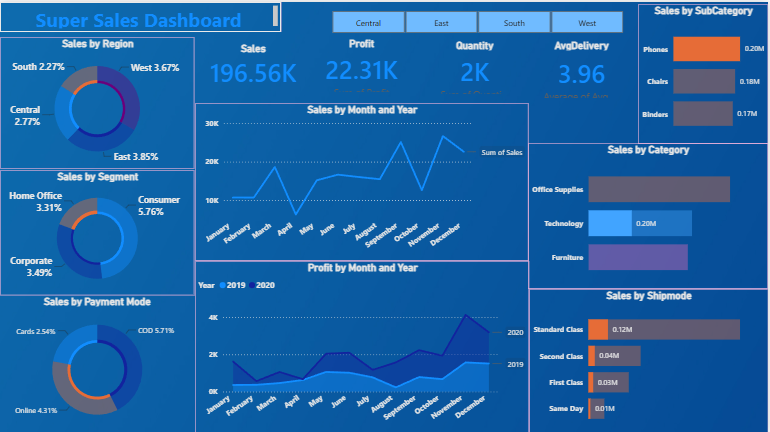

This screenshot's page, from the dashboard's own definition file:
{"tool":"powerbi","page":{"name":"Page 1","canvas":[1280,720],"ordinal":0},"visuals":[{"type":"clusteredBarChart","title":"Sales by Category","fields":{"Category":["SuperStore Sales DataSet(Sheet1).Category"],"Y":["Sum(SuperStore Sales DataSet(Sheet1).Sales)"]},"box":[880,235.7,400,242.9],"z":0},{"type":"clusteredBarChart","title":"Sales by SubCategory","fields":{"Category":["SuperStore Sales DataSet(Sheet1).Sub-Category"],"Y":["Sum(SuperStore Sales DataSet(Sheet1).Sales)"]},"box":[1062.9,2.9,217.1,232.9],"z":1000},{"type":"clusteredBarChart","title":"Sales by Shipmode","fields":{"Category":["SuperStore Sales DataSet(Sheet1).Ship Mode"],"Y":["Sum(SuperStore Sales DataSet(Sheet1).Sales)"]},"box":[881.4,478.6,398.6,241.4],"z":2000},{"type":"lineChart","title":" Sales by Month and Year","fields":{"Category":["SuperStore Sales DataSet(Sheet1).Order Date.Variation.Date Hierarchy.Month","SuperStore Sales DataSet(Sheet1).Order Date.Variation.Date Hierarchy.Year"],"Y":["Sum(SuperStore Sales DataSet(Sheet1).Sales)"]},"box":[324.3,168.6,555.7,262.9],"z":3000},{"type":"stackedAreaChart","title":"Profit by Month and Year","fields":{"Category":["SuperStore Sales DataSet(Sheet1).Order Date.Variation.Date Hierarchy.Month"],"Series":["SuperStore Sales DataSet(Sheet1).Order Date.Variation.Date Hierarchy.Year"],"Y":["Sum(SuperStore Sales DataSet(Sheet1).Profit)"]},"box":[324.3,431.4,557.1,287.1],"z":4000},{"type":"donutChart","title":" Sales by Segment","fields":{"Category":["SuperStore Sales DataSet(Sheet1).Segment"],"Y":["Sum(SuperStore Sales DataSet(Sheet1).Sales)"]},"box":[0,280,324.3,208.6],"z":4002},{"type":"donutChart","title":" Sales by Payment Mode","fields":{"Category":["SuperStore Sales DataSet(Sheet1).Payment Mode"],"Y":["Sum(SuperStore Sales DataSet(Sheet1).Sales)"]},"box":[0,488.6,324.3,230],"z":4003},{"type":"slicer","fields":{"Values":["SuperStore Sales DataSet(Sheet1).Region"]},"box":[528.6,8.6,534.3,50],"z":4004},{"type":"cardVisual","title":"Sales","fields":{"Data":["Sum(SuperStore Sales DataSet(Sheet1).Sales)"]},"box":[314.3,67.1,214.3,100],"z":4006},{"type":"cardVisual","title":"Profit","fields":{"Data":["Sum(SuperStore Sales DataSet(Sheet1).Profit)"]},"box":[505.7,58.6,195.7,108.6],"z":4008},{"type":"cardVisual","title":"AvgDelivery","fields":{"Data":["Avg(SuperStore Sales DataSet(Sheet1).AvgDelivery)"]},"box":[877.1,61.4,185.7,115.7],"z":4009},{"type":"cardVisual","title":"Quantity","fields":{"Data":["Sum(SuperStore Sales DataSet(Sheet1).Quantity)"]},"box":[704.3,61.4,172.9,108.6],"z":4010},{"type":"donutChart","title":" Sales by Region","fields":{"Category":["SuperStore Sales DataSet(Sheet1).Region"],"Y":["Sum(SuperStore Sales DataSet(Sheet1).Sales)"]},"box":[0,58.6,324.3,220],"z":4011},{"type":"textbox","box":[0,0,468.6,50],"z":4012}]}

Visuals, with their boxes in screenshot pixels (x1, y1, x2, y2), scaled from the page's 1280x720 canvas onto the 770x432 screenshot:
"Sales by Category" clusteredBarChart: crop(529, 141, 769, 287)
"Sales by SubCategory" clusteredBarChart: crop(639, 2, 769, 141)
"Sales by Shipmode" clusteredBarChart: crop(530, 287, 769, 431)
" Sales by Month and Year" lineChart: crop(195, 101, 529, 259)
"Profit by Month and Year" stackedAreaChart: crop(195, 259, 530, 431)
" Sales by Segment" donutChart: crop(0, 168, 195, 293)
" Sales by Payment Mode" donutChart: crop(0, 293, 195, 431)
slicer - SuperStore Sales DataSet(Sheet1).Region: crop(318, 5, 639, 35)
"Sales" cardVisual: crop(189, 40, 318, 100)
"Profit" cardVisual: crop(304, 35, 422, 100)
"AvgDelivery" cardVisual: crop(528, 37, 639, 106)
"Quantity" cardVisual: crop(424, 37, 528, 102)
" Sales by Region" donutChart: crop(0, 35, 195, 167)
textbox: crop(0, 0, 282, 30)
